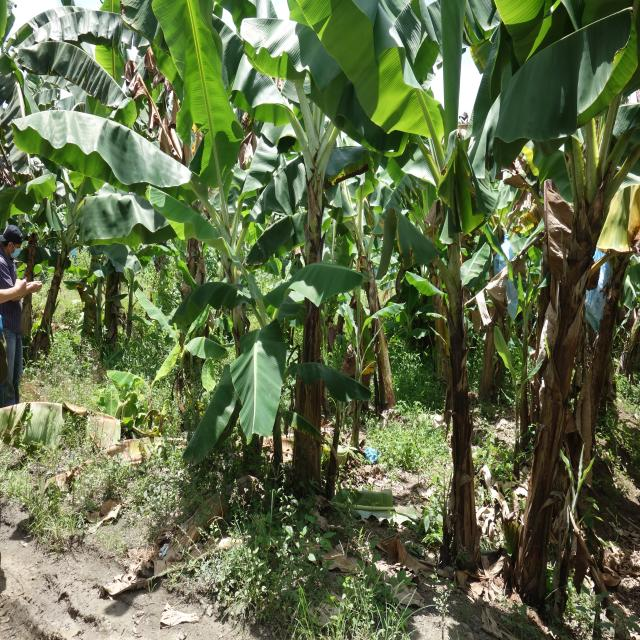Banana-plant: (498, 167, 620, 608), (429, 101, 482, 578), (294, 94, 326, 496), (354, 197, 396, 413), (29, 212, 78, 360)
